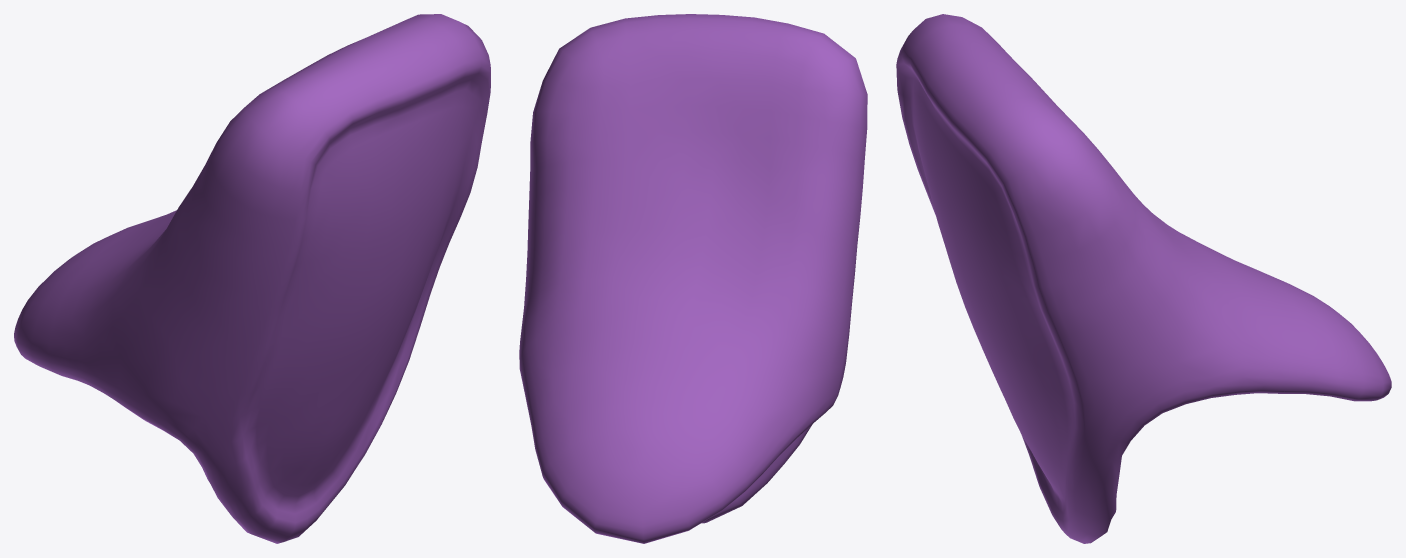
Rendered from BR2_Enamel_Prongs.001 2.glb.
3 renders of one model, left to right at view 1: azimuth 30°, elevation 25°; view 2: azimuth 150°, elevation 25°; view 3: azimuth 270°, elevation 25°, orthographic. The views are drawn at different scales.
Visible parts, largest first — view 1: BR2_Enamel_Prongs.001; view 2: BR2_Enamel_Prongs.001; view 3: BR2_Enamel_Prongs.001.
Boxes of the visible parts, x1,y1,x2,y2 form: BR2_Enamel_Prongs.001: (14, 14, 490, 543); BR2_Enamel_Prongs.001: (519, 14, 867, 543); BR2_Enamel_Prongs.001: (896, 14, 1391, 543).
Size of the model in its own units: 0.6297 by 0.9223 by 0.8329.
